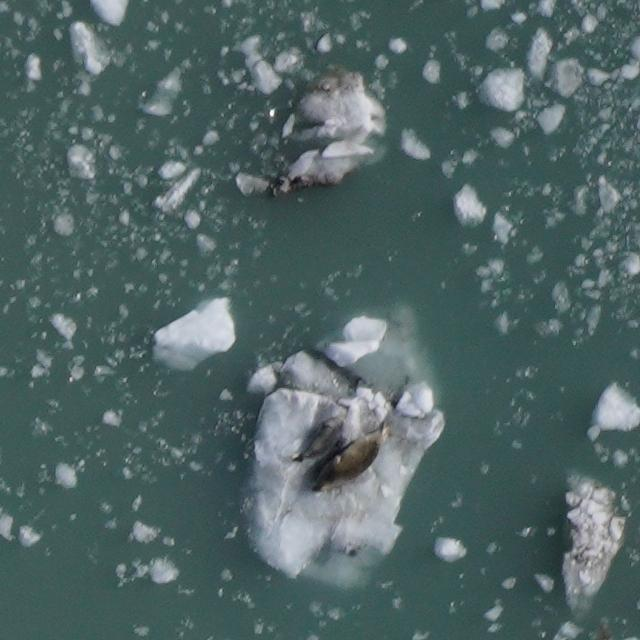seal: (306, 413, 396, 497), (289, 404, 355, 466)
